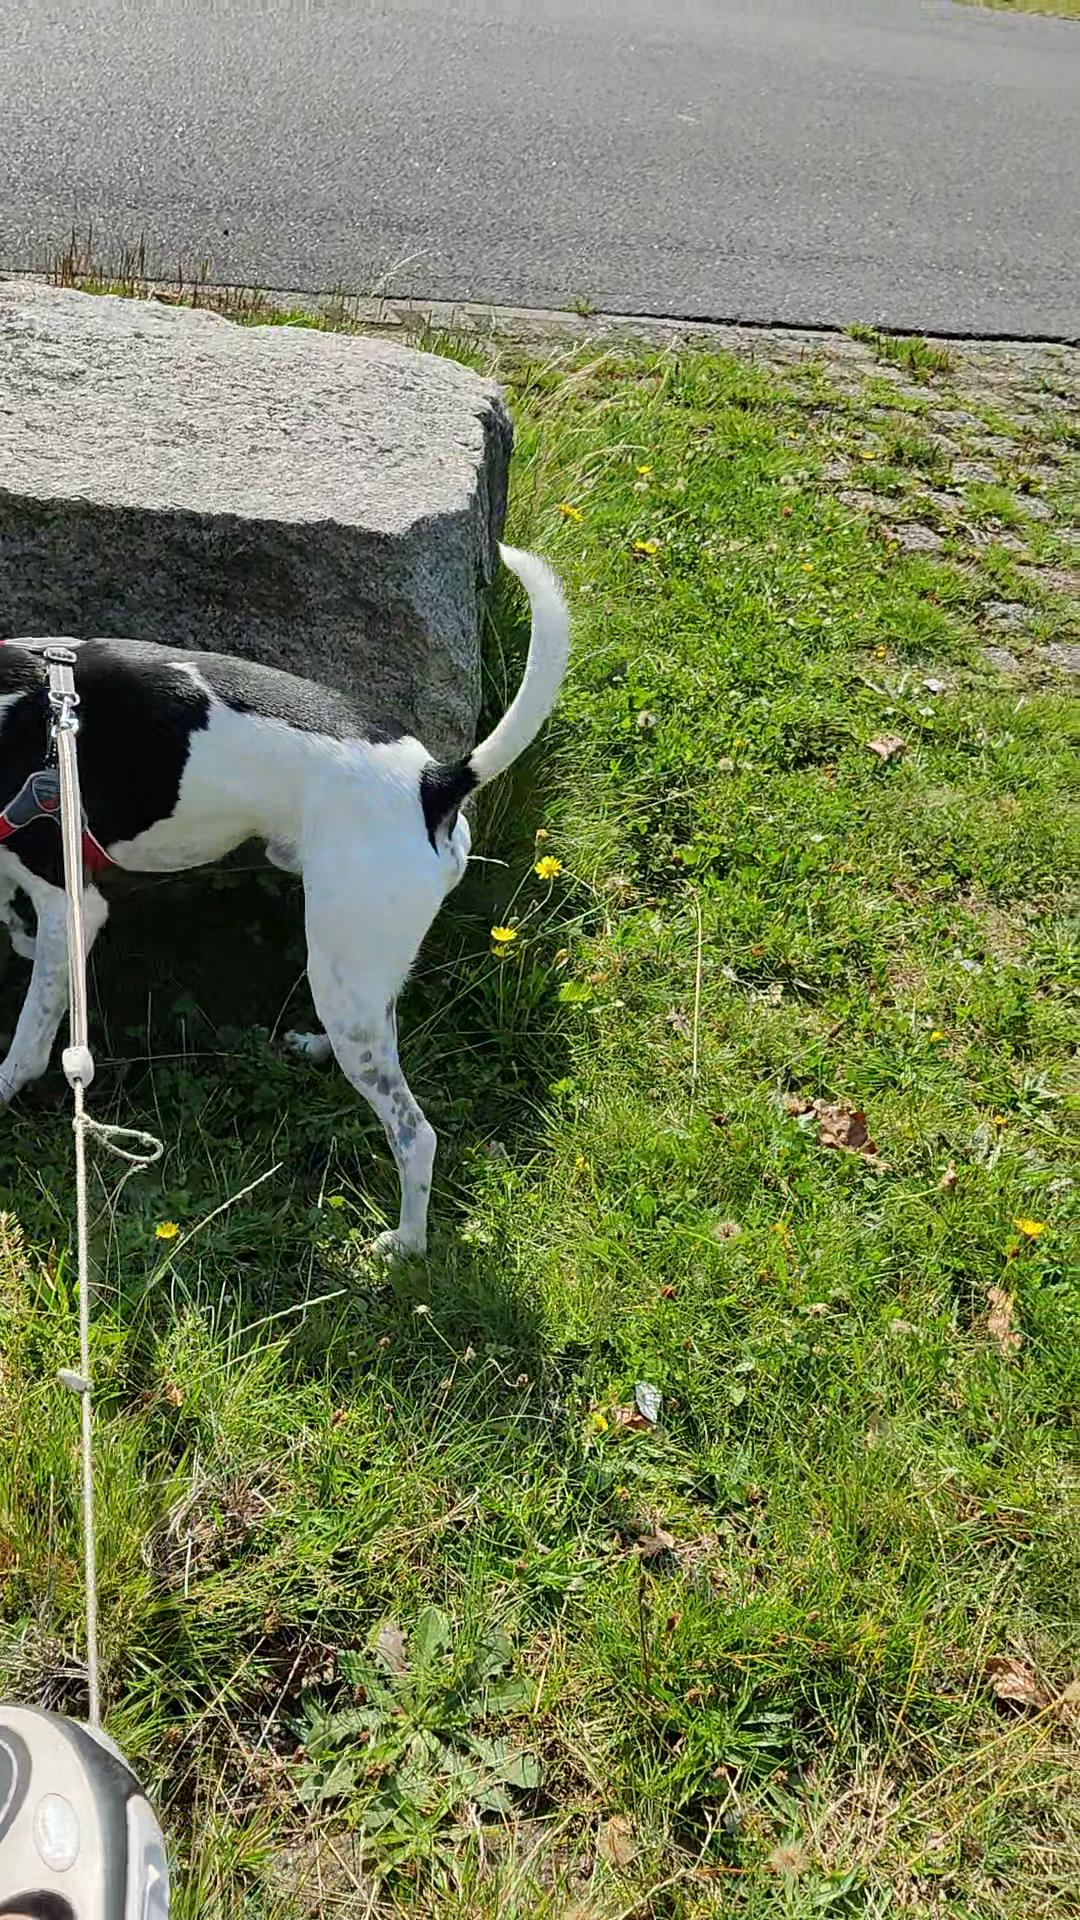Dog: (0, 521, 579, 1273)
